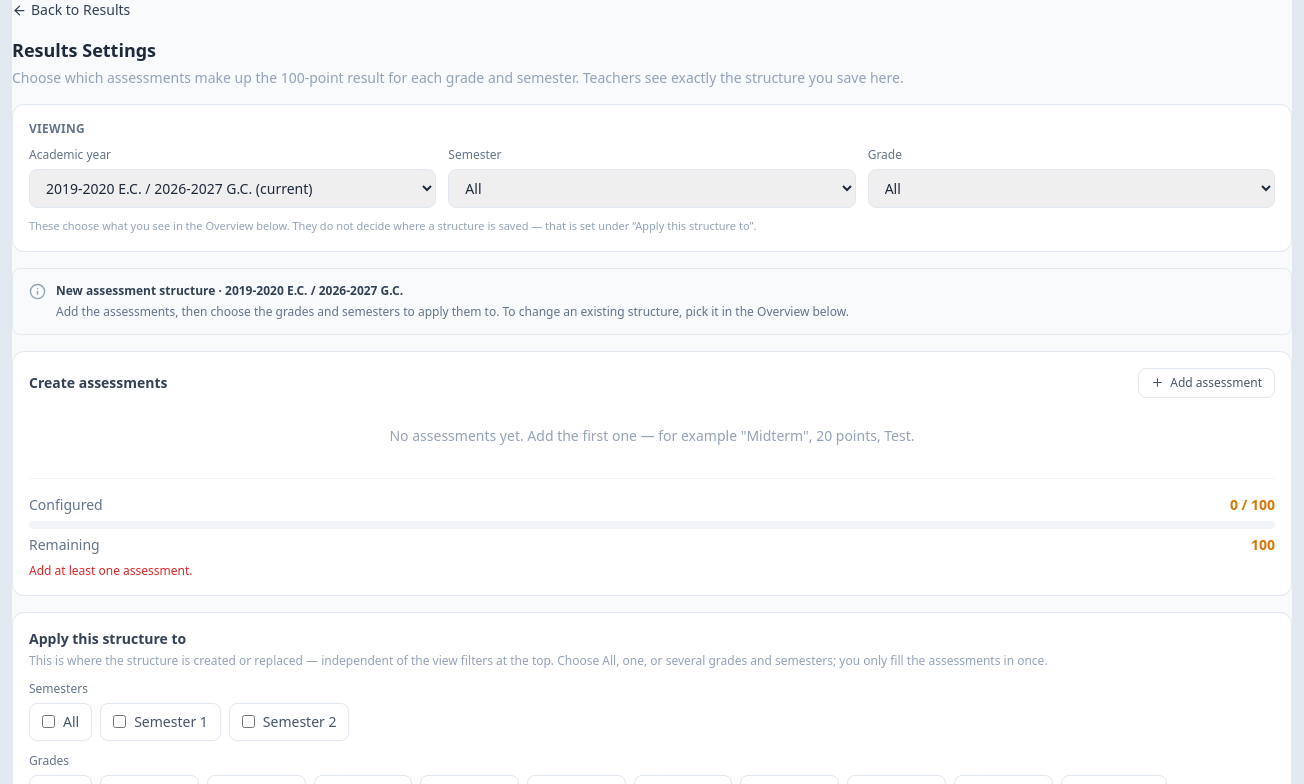
the page filter never restricts the explicit Apply target › switching the academic year starts clean: structures of one year never appear under another
Step 1. Select "Grade 10" in the dropdown labelled "Grade" → (1071, 188), box [868,169,1275,208]
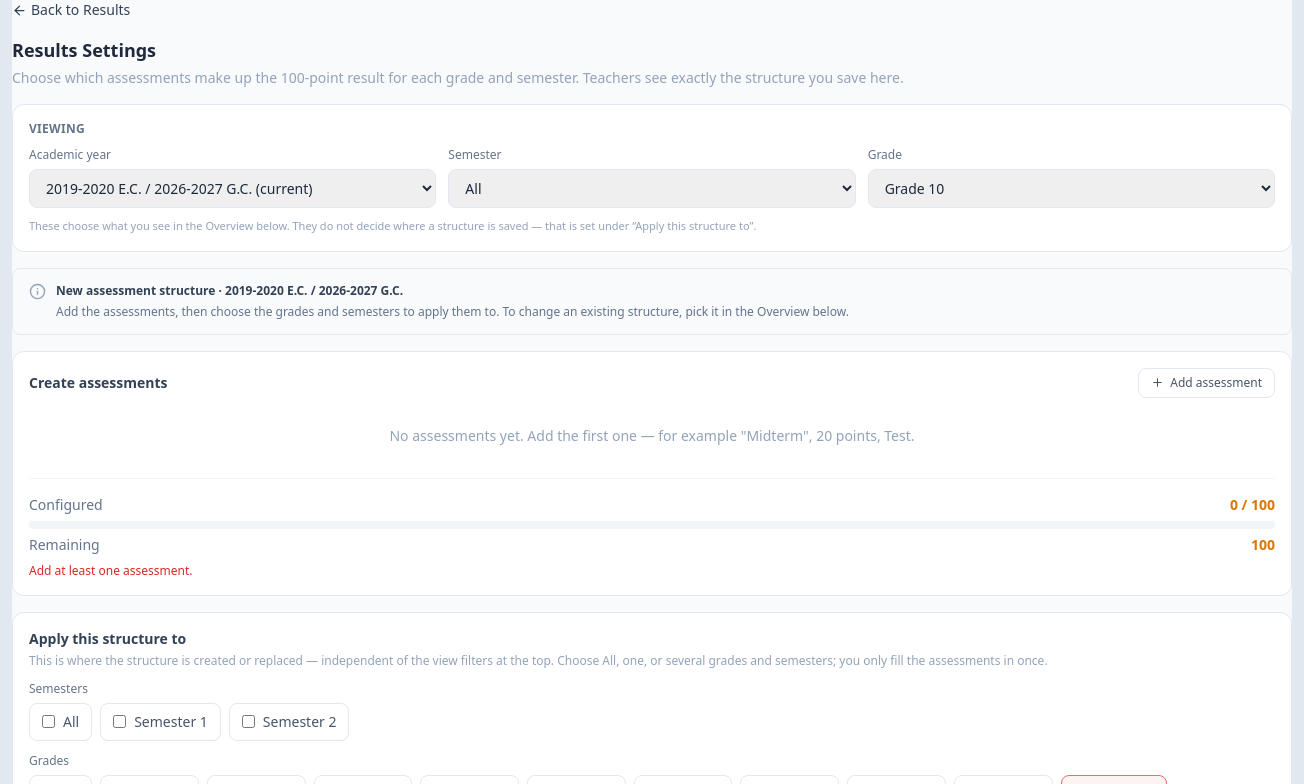
Expected: the text "Quiz 30" is not shown
Step 2. Select "2020-2021 E.C. / 2027-2028 G.C." in the dropdown labelled "Academic year" → (233, 188), box [29,169,436,208]
(page scrolled)
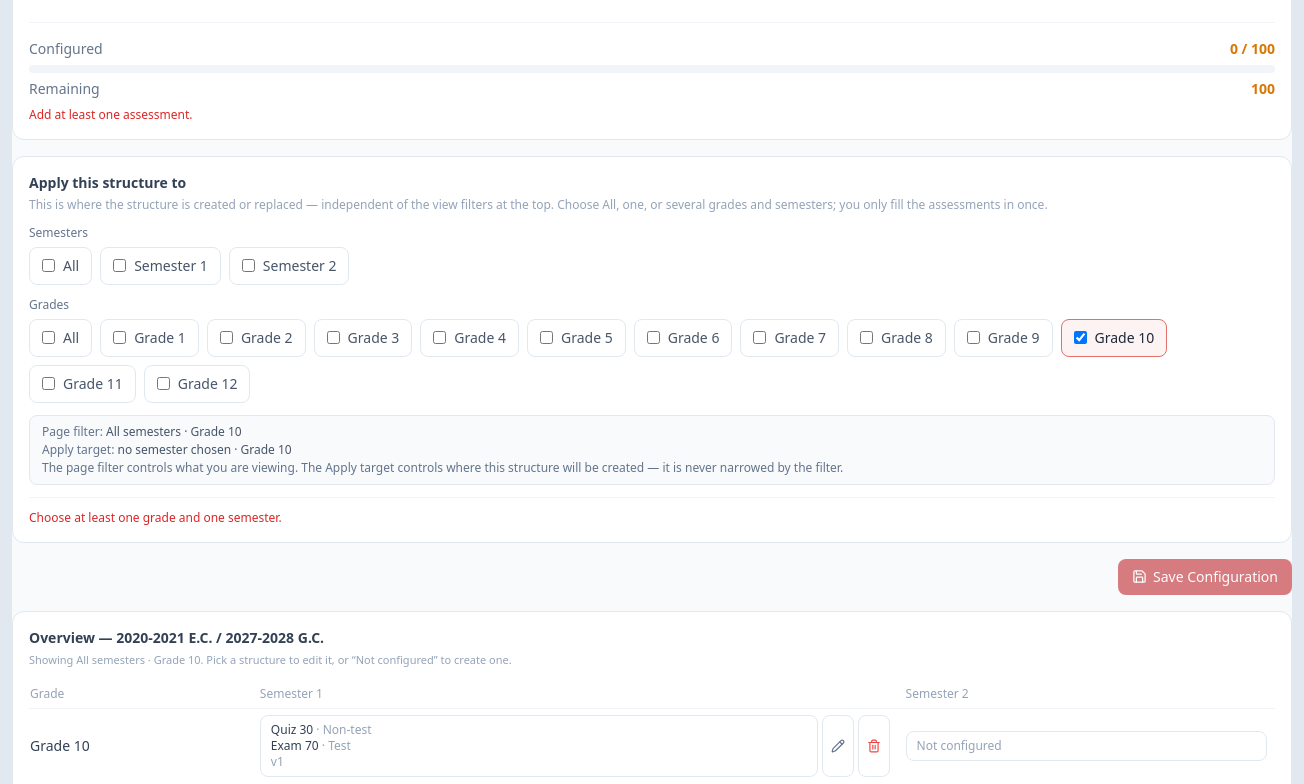
Now the text "Quiz 30 · Non-test" is shown, box [271,721,372,738]
